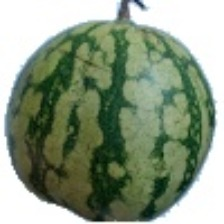watermelon: (33, 23, 194, 186)
